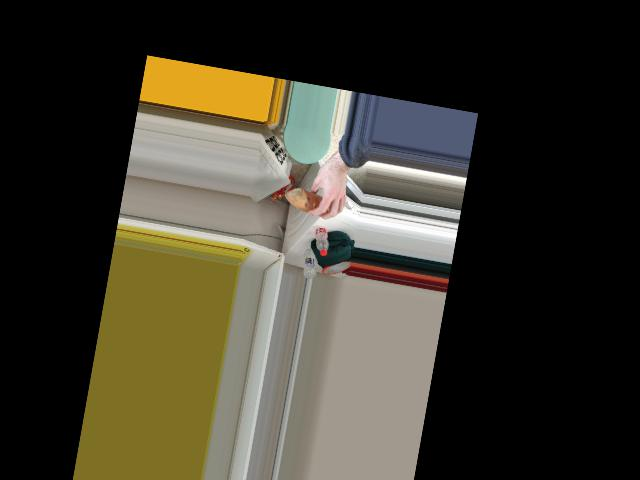sweet_potato: (292, 192, 327, 212)
